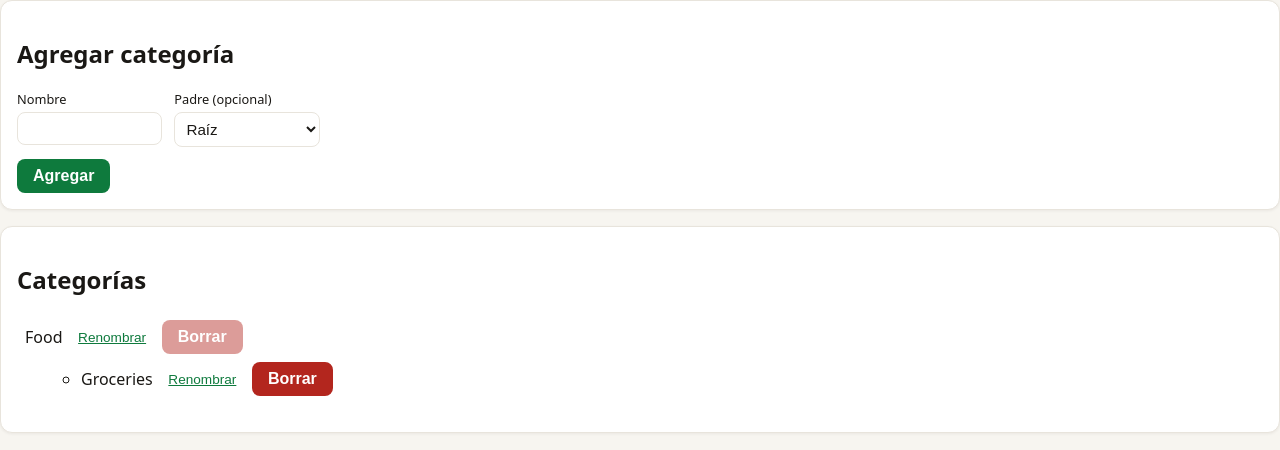
CategoriesPage › marks the confirm prompt as an alert and the Cancelar link as muted (P3 #1, #2)
The image size is (1280, 450).
Click the button with test id "delete-11" at (292, 379), box [252, 362, 333, 396]
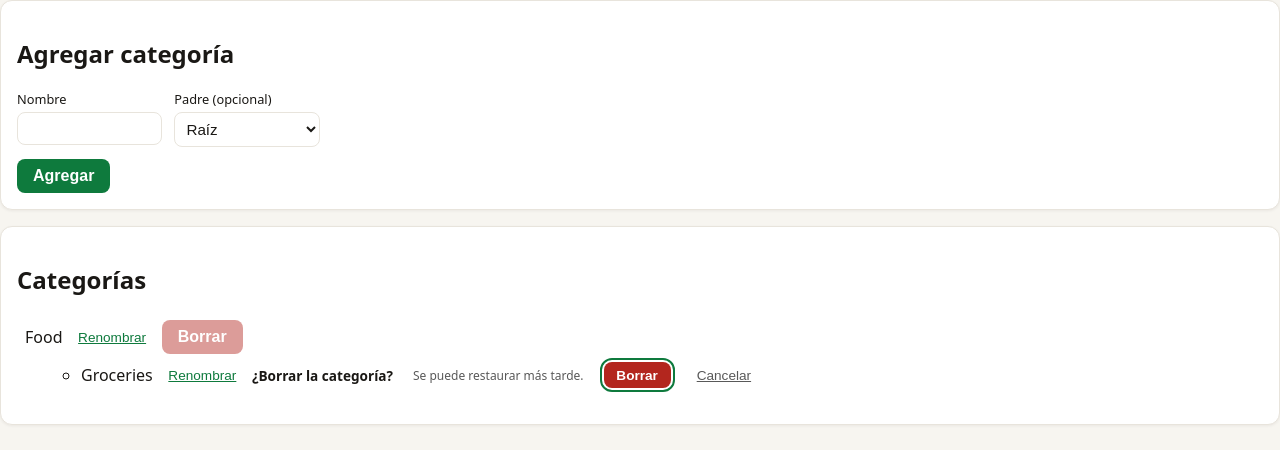
Now the message shows "¿Borrar la categoría?", box [252, 366, 393, 385]
